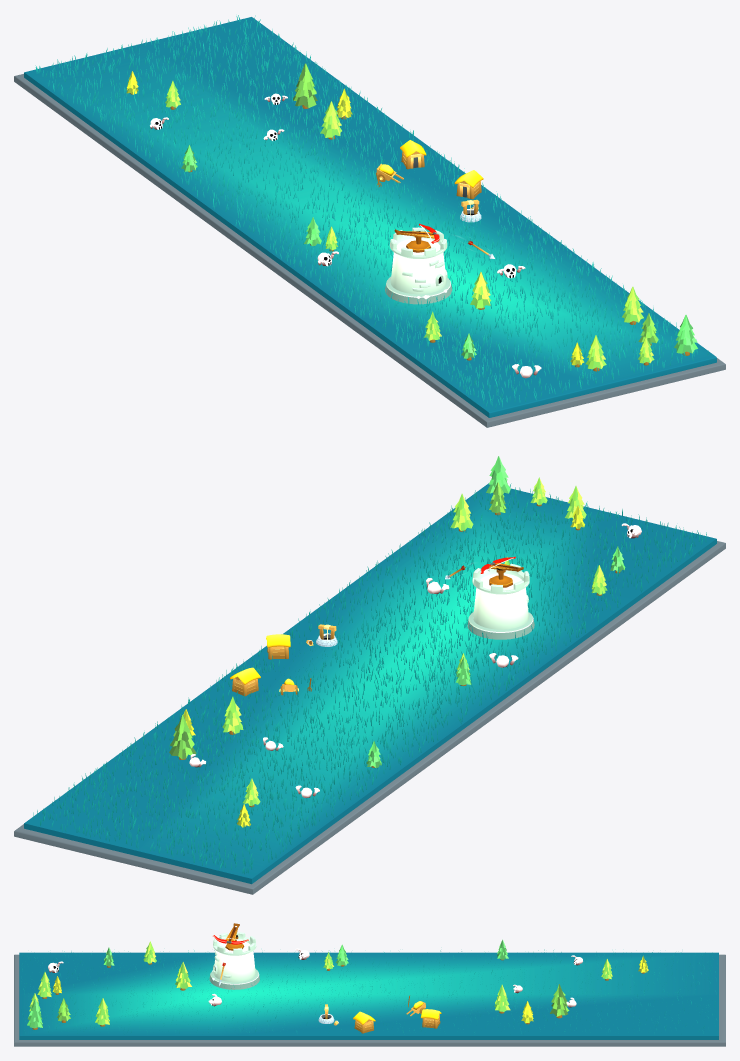
3 views of the same model, one above another, from view 1: azimuth 30°, elevation 25°; view 2: azimuth 150°, elevation 25°; view 3: azimuth 270°, elevation 25° (orthographic). The views are drawn at different scales.
Parts seen in each view (by area): view 1: Ground, Grass, Tower_Archer_Base, Tree2.002; view 2: Ground, Grass, Tower_Archer_Base, Tree2.002; view 3: Ground, Tower_Archer_Base, Grass, Tree2.002, House_Final.001, House_Final, Tree2.013, Cylinder.010, Tree2.001, Tree2.004, Tree2.005, Tree2.015.
Part boxes in pixels (x1=…): Ground: x1=14, y1=17, x2=725, y2=427; Grass: x1=35, y1=15, x2=708, y2=408; Tower_Archer_Base: x1=385, y1=227, x2=452, y2=304; Tree2.002: x1=293, y1=63, x2=317, y2=108; Ground: x1=14, y1=483, x2=725, y2=894; Grass: x1=33, y1=483, x2=706, y2=874; Tower_Archer_Base: x1=467, y1=563, x2=534, y2=639; Tree2.002: x1=169, y1=714, x2=196, y2=759; Ground: x1=14, y1=952, x2=725, y2=1046; Tower_Archer_Base: x1=209, y1=932, x2=259, y2=989; Grass: x1=21, y1=949, x2=716, y2=1033; Tree2.002: x1=550, y1=984, x2=569, y2=1018; House_Final.001: x1=353, y1=1011, x2=375, y2=1033; House_Final: x1=420, y1=1009, x2=441, y2=1028; Tree2.013: x1=27, y1=999, x2=42, y2=1029; Cylinder.010: x1=213, y1=923, x2=248, y2=944; Tree2.001: x1=175, y1=962, x2=191, y2=990; Tree2.004: x1=494, y1=984, x2=510, y2=1013; Tree2.005: x1=95, y1=998, x2=109, y2=1026; Tree2.015: x1=37, y1=972, x2=51, y2=998.
Bounding box in the file's own units: 1010 × 303 × 3465.
1 material, 1 textured.
